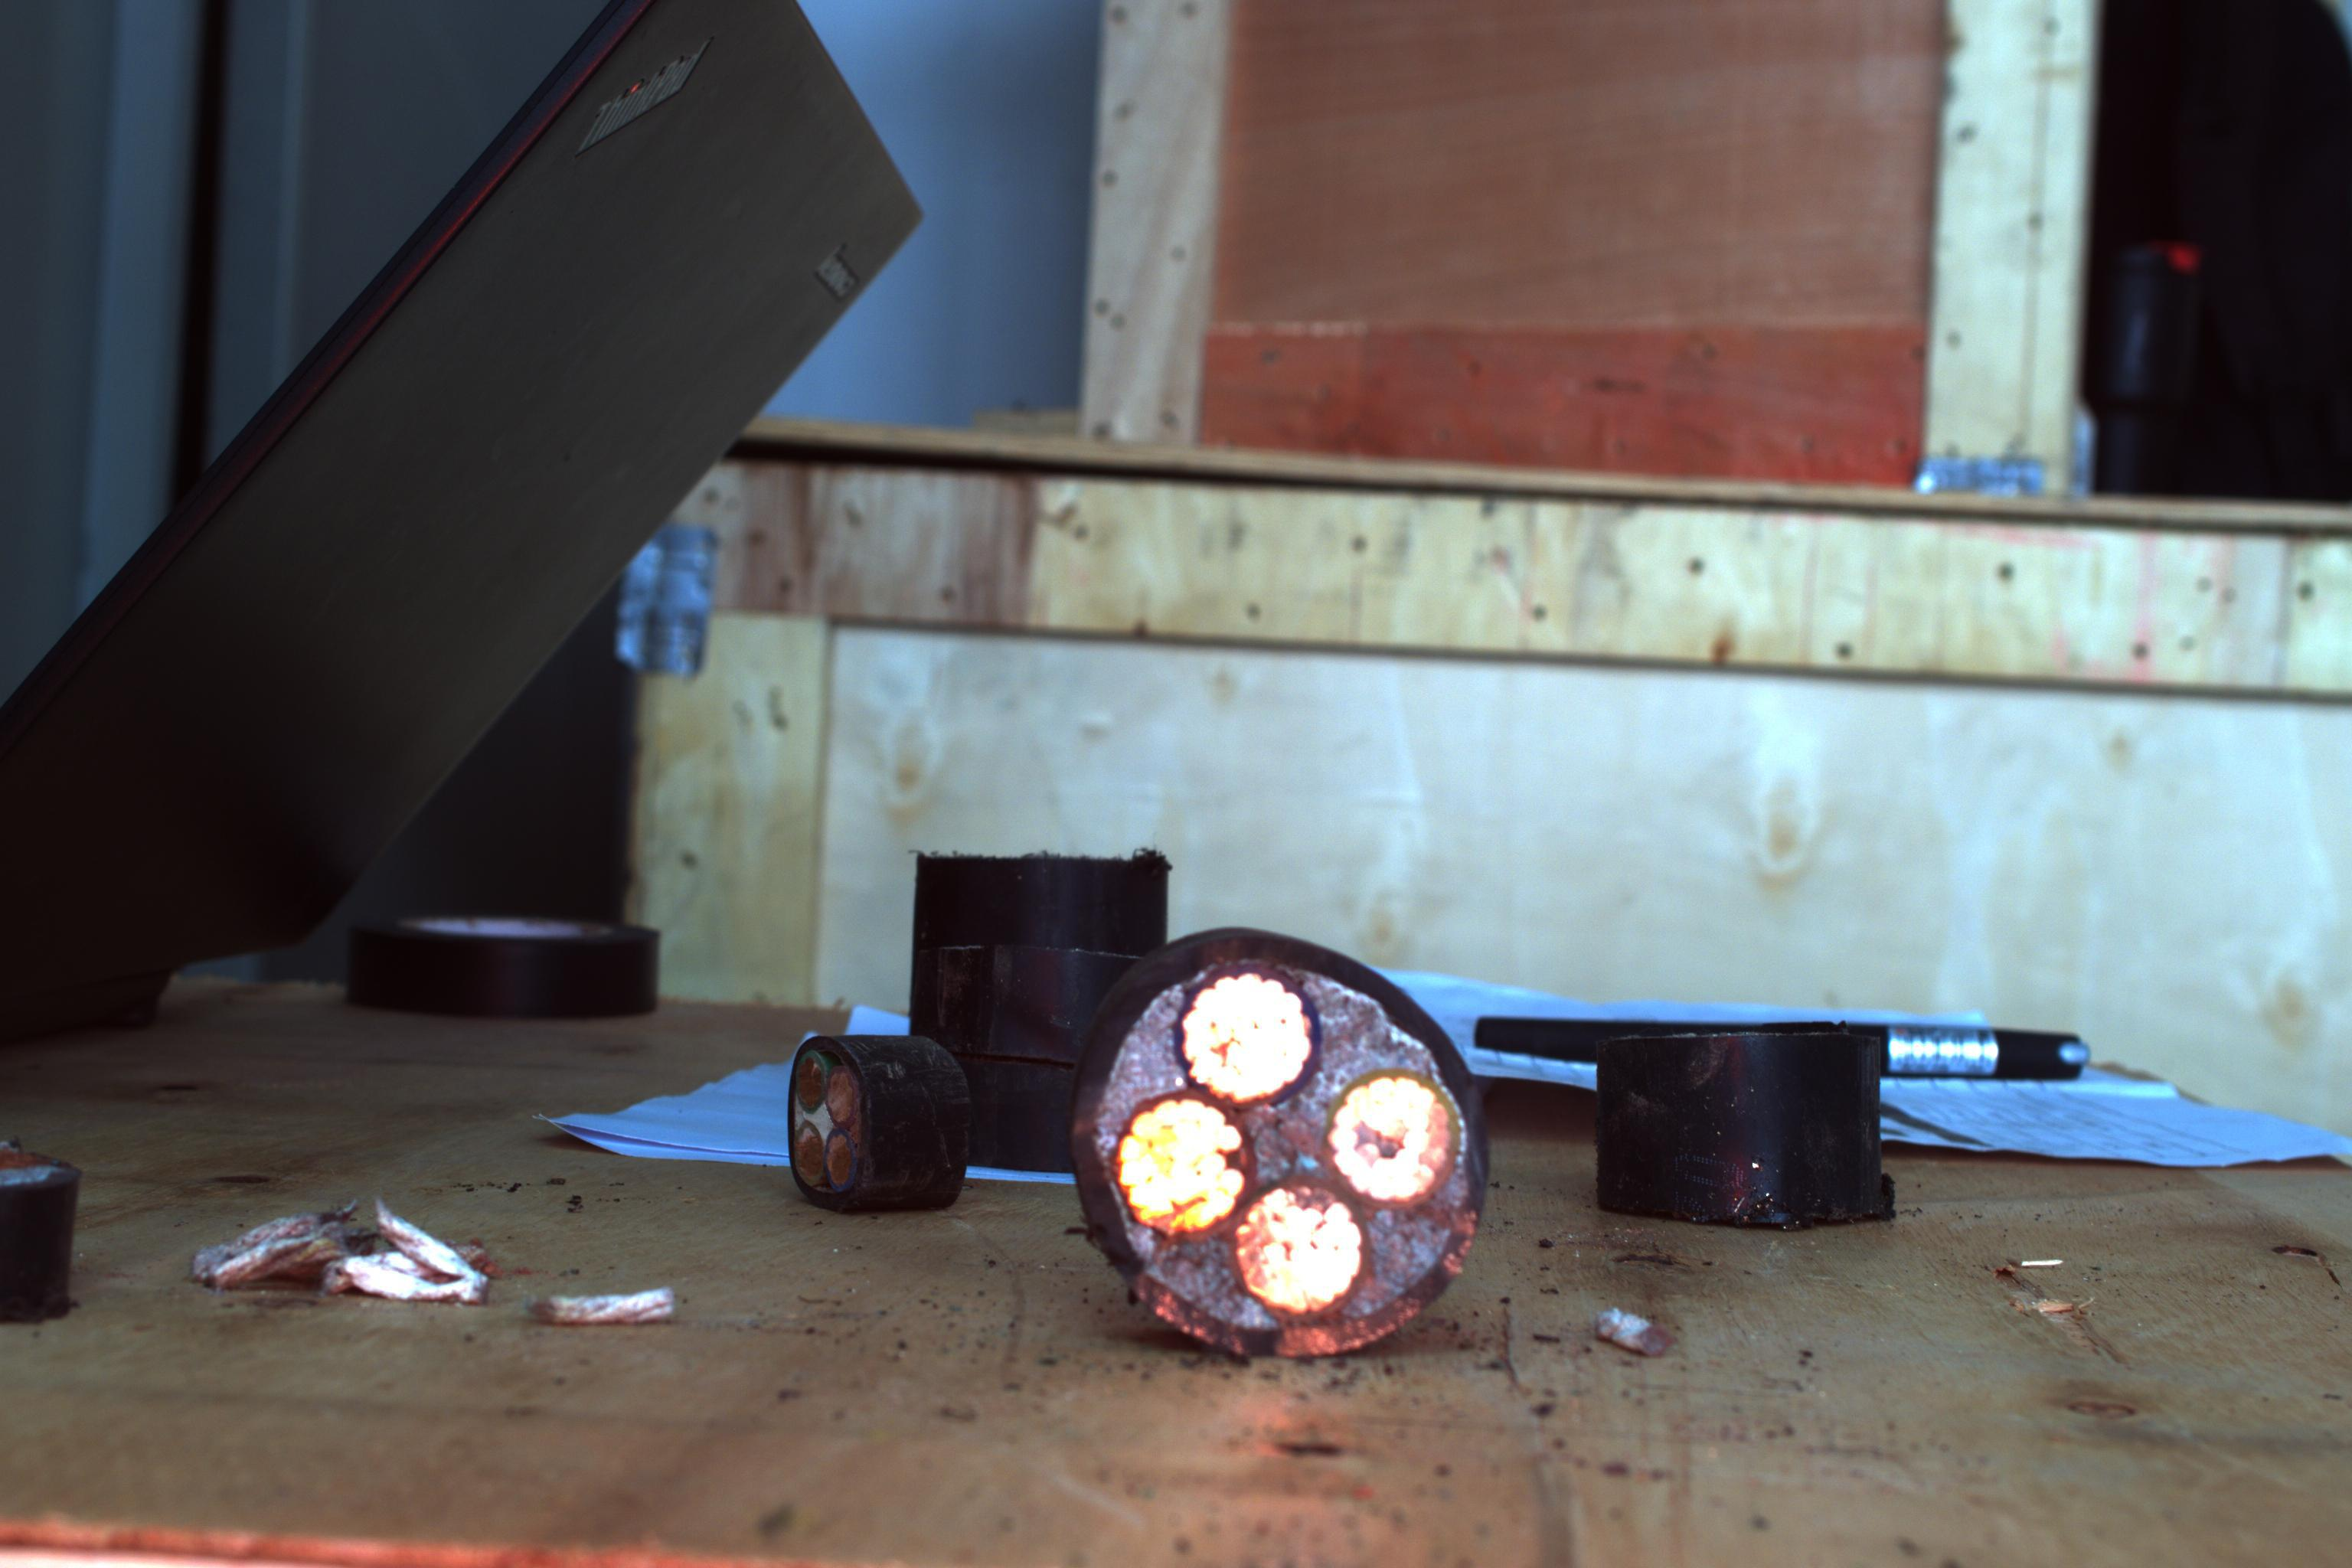YJV_0.6_1kV_4x120: (1052, 924, 1487, 1353)
